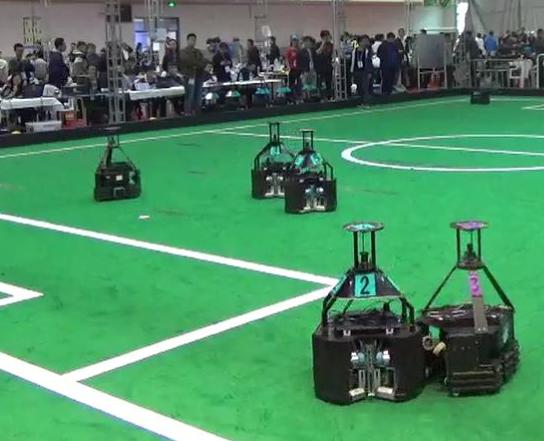robot: (300, 218, 430, 406), (415, 214, 527, 401), (281, 123, 344, 218), (90, 125, 153, 208)
